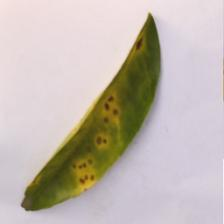canker: (64, 95, 128, 187)
